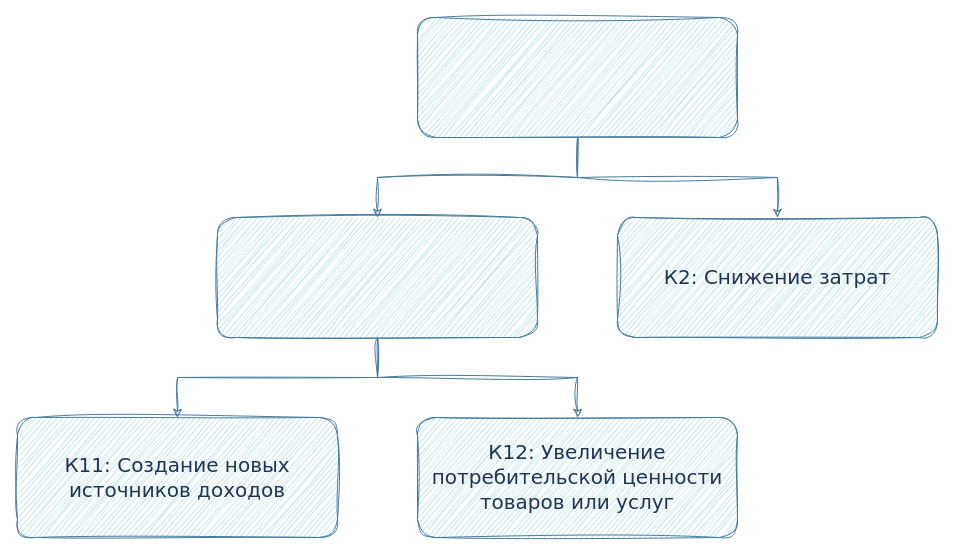
The diagram is 955 pixels wide and 555 high, and some of its shapes have lost their labels. The shapes that lost their labels are listed below. From the top down, each one's centre as x and y in pixels, then its label:
At (x=577, y=77): "К0: Увеличение прибыли".
At (x=377, y=277): "К1: Рост доходов".
